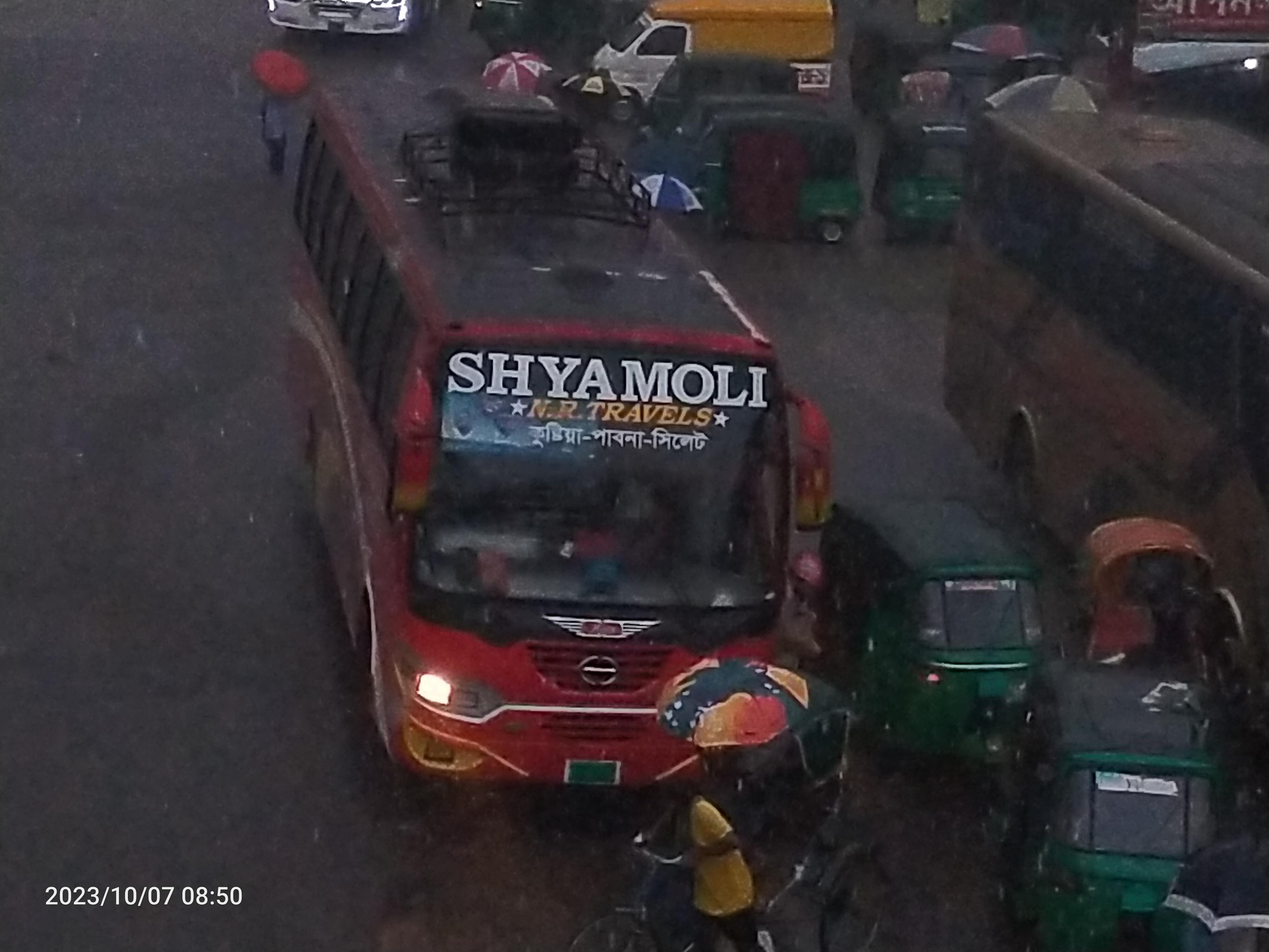Bus: (233, 54, 861, 828), (923, 57, 1269, 640)
Car: (550, 638, 922, 952), (1047, 491, 1269, 733), (574, 0, 875, 118)
